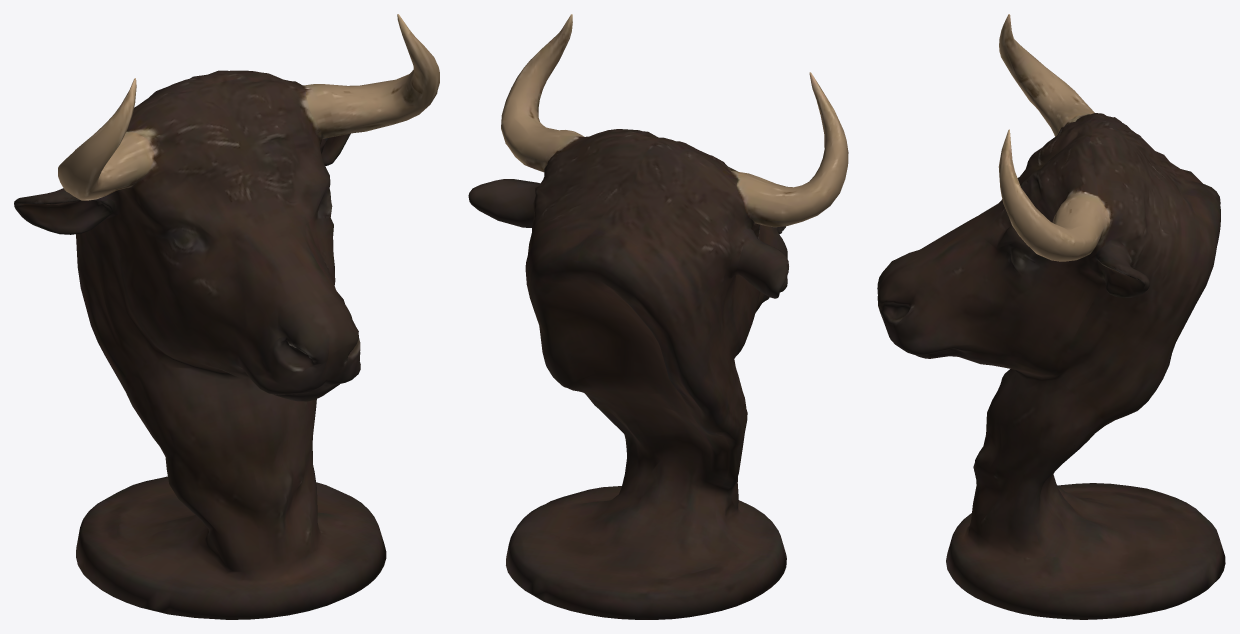
The model's file is bull_head.glb.
3 views of the same model, side by side, from view 1: azimuth 30°, elevation 25°; view 2: azimuth 150°, elevation 25°; view 3: azimuth 270°, elevation 25° (orthographic). The views are drawn at different scales.
Visible parts, largest first — view 1: bull_head; view 2: bull_head; view 3: bull_head.
Boxes of the visible parts, x1=… form: bull_head: x1=14, y1=14, x2=439, y2=619; bull_head: x1=468, y1=14, x2=848, y2=619; bull_head: x1=877, y1=14, x2=1225, y2=619.
Size of the model in its own units: 0.3062 by 0.4329 by 0.2805.
1 material, 1 textured.
